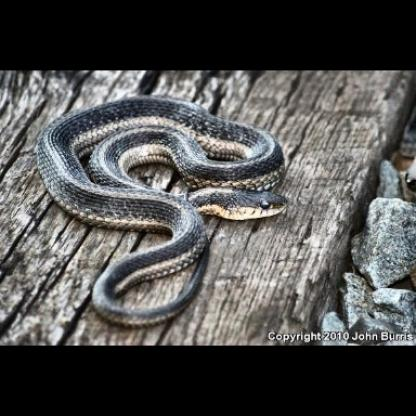Snake: (31, 89, 314, 335)
